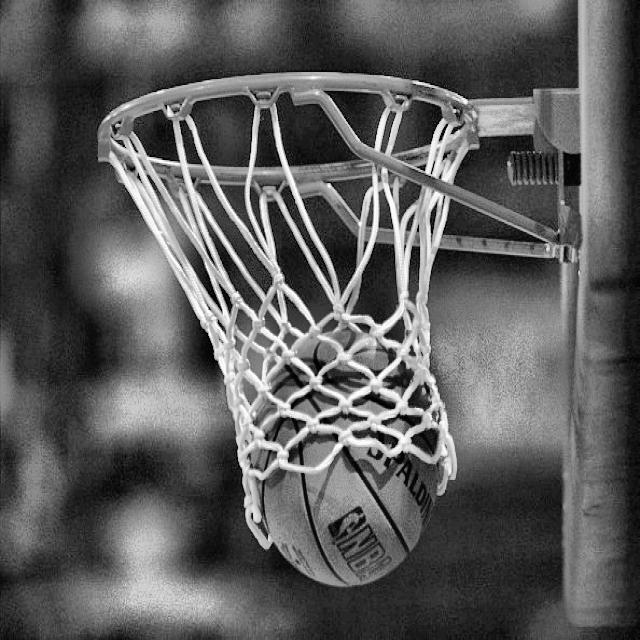Basketball: (249, 329, 442, 587)
